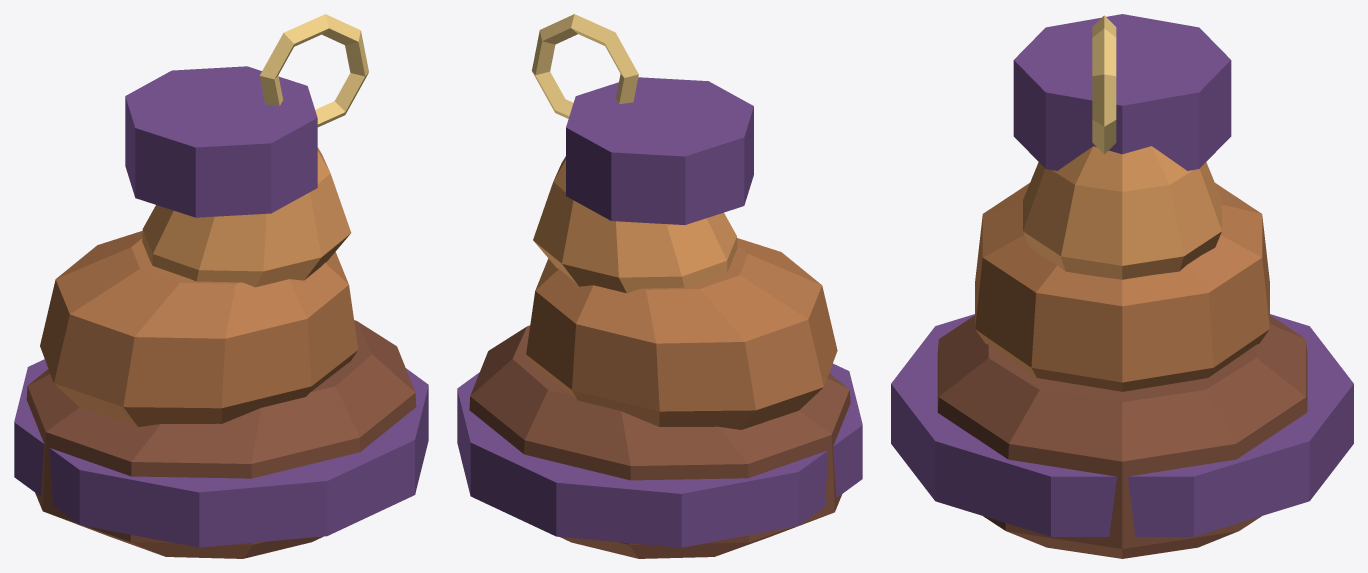
File: stink.glb
3 views of the same model, side by side, from view 1: azimuth 30°, elevation 25°; view 2: azimuth 150°, elevation 25°; view 3: azimuth 270°, elevation 25° (orthographic). The views are drawn at different scales.
Parts seen in each view (by area): view 1: Middle curl, Purple belt, Wide curl, Fuse cap.001, Curl tip, Pull ring.001; view 2: Middle curl, Purple belt, Wide curl, Fuse cap.001, Curl tip, Pull ring.001; view 3: Wide curl, Middle curl, Purple belt, Fuse cap.001, Curl tip, Pull ring.001.
Boxes of the visible parts, <box> form: Middle curl: <box>40,231,358,426</box>; Purple belt: <box>14,359,428,547</box>; Wide curl: <box>26,320,416,558</box>; Fuse cap.001: <box>125,66,317,217</box>; Curl tip: <box>142,147,351,287</box>; Pull ring.001: <box>259,14,368,127</box>; Middle curl: <box>526,238,837,429</box>; Purple belt: <box>457,363,862,547</box>; Wide curl: <box>469,325,850,558</box>; Fuse cap.001: <box>566,77,753,224</box>; Curl tip: <box>533,156,737,293</box>; Pull ring.001: <box>532,14,638,118</box>; Wide curl: <box>937,315,1307,558</box>; Middle curl: <box>975,183,1269,391</box>; Purple belt: <box>891,314,1353,536</box>; Fuse cap.001: <box>1013,14,1231,170</box>; Curl tip: <box>1023,146,1221,279</box>; Pull ring.001: <box>1092,15,1116,154</box>.
Bounding box in the file's own units: 0.224 × 0.2863 × 0.23.
